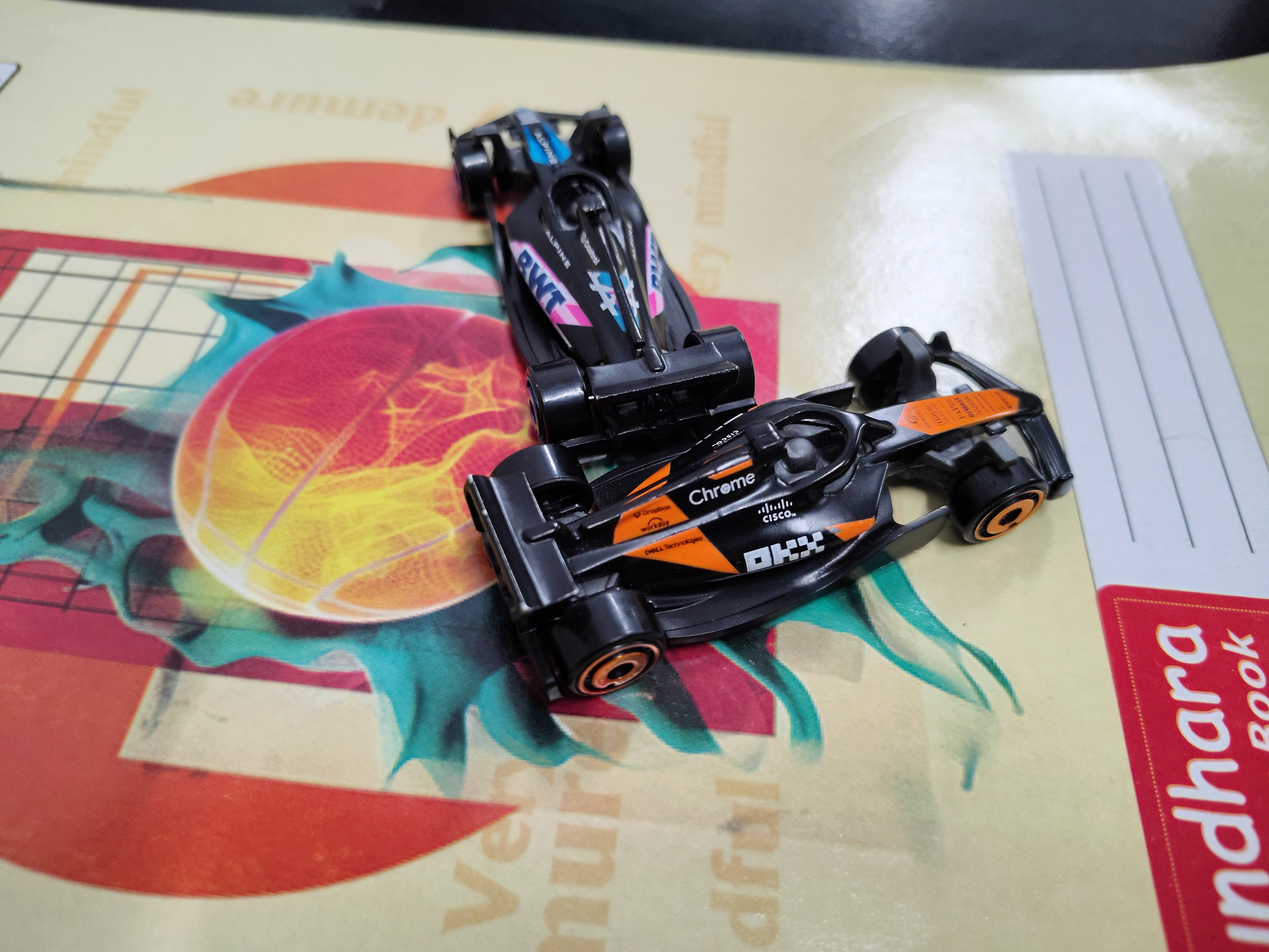Alpine A524: (432, 88, 776, 412)
McLaren MCL40: (361, 389, 1225, 655)
